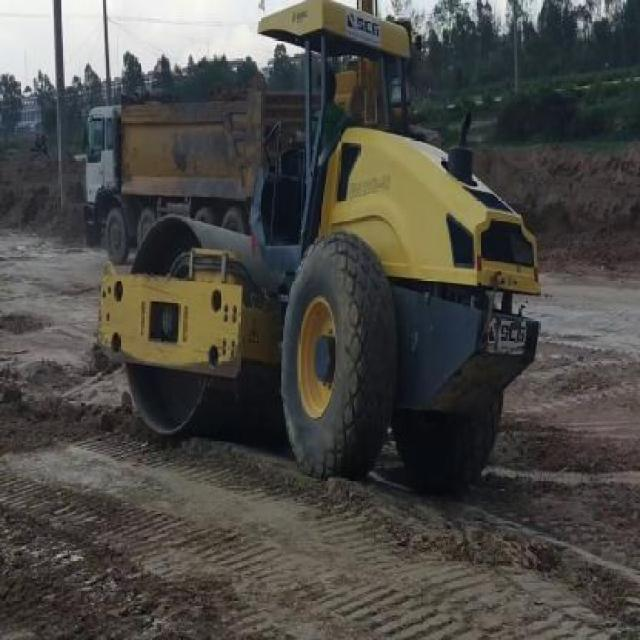Dump Truck: (84, 78, 311, 259)
Roller: (97, 1, 543, 476)
